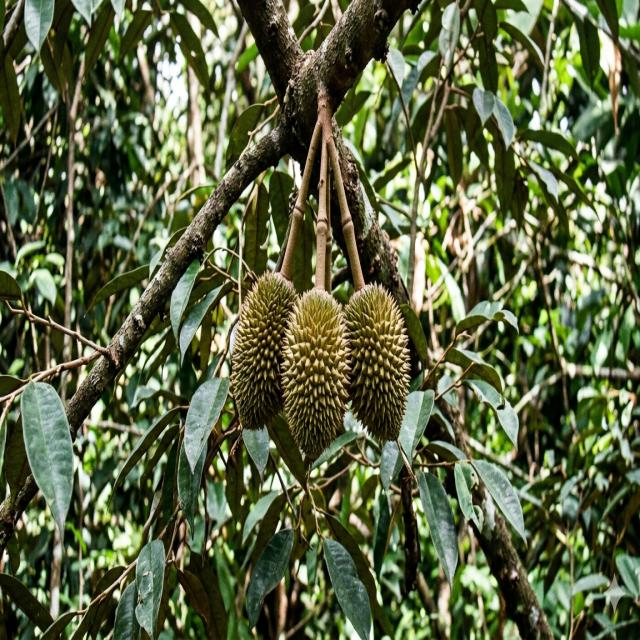immature: (279, 285, 351, 456), (231, 268, 301, 433), (342, 280, 411, 440)
